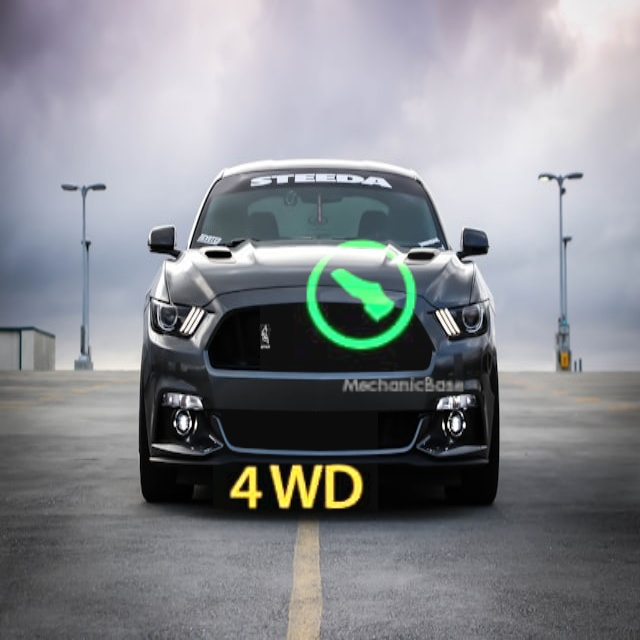symbol: (260, 190, 472, 402), (213, 406, 378, 571)
